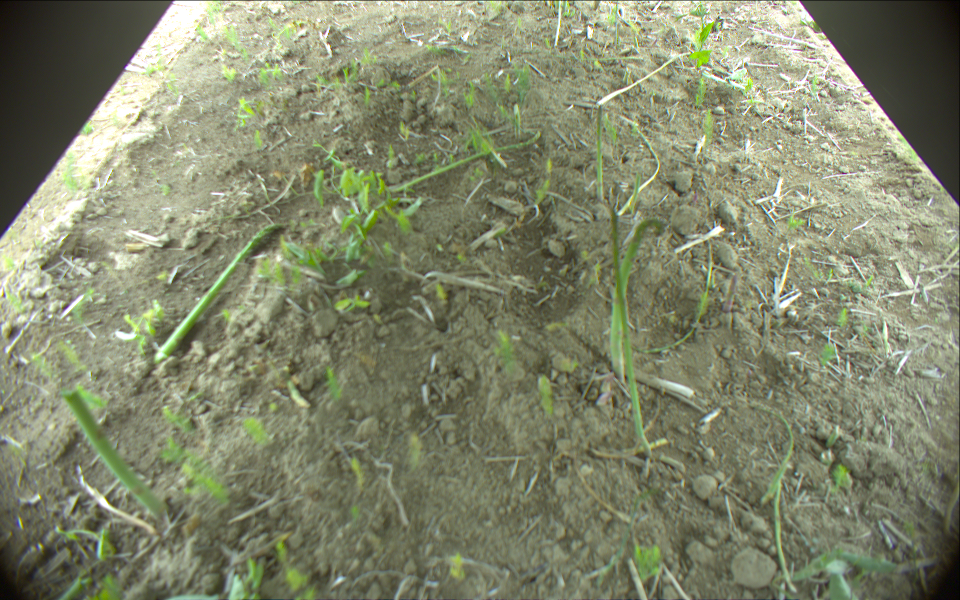aspa: (152, 222, 284, 366), (62, 388, 170, 518), (610, 208, 651, 456), (386, 131, 541, 195), (750, 398, 799, 590), (611, 217, 659, 382), (598, 51, 689, 105), (618, 124, 660, 217), (760, 453, 789, 506), (529, 159, 555, 211), (941, 479, 960, 532), (721, 271, 740, 316), (596, 106, 604, 203), (629, 174, 641, 216), (511, 100, 521, 137)
